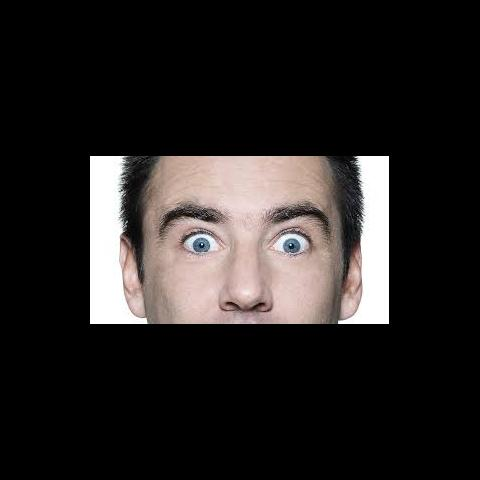opened: (169, 203, 329, 268)
